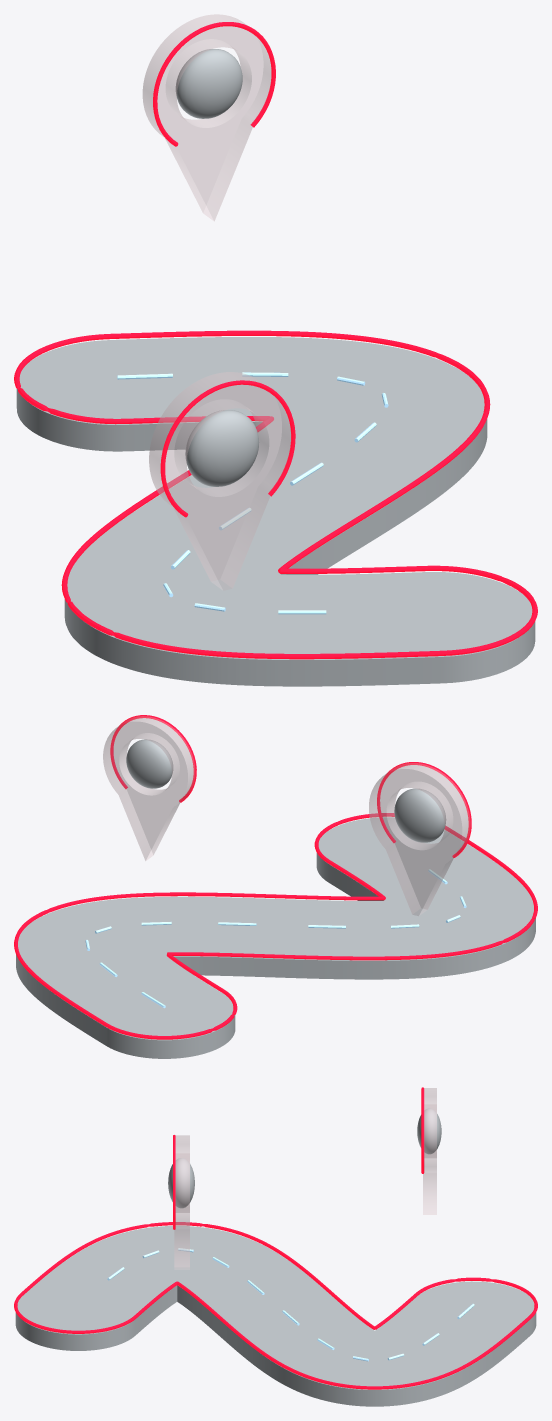
The model's file is 26-roadmap.glb.
3 views of the same model, one above another, from view 1: azimuth 30°, elevation 25°; view 2: azimuth 150°, elevation 25°; view 3: azimuth 270°, elevation 25° (orthographic). The views are drawn at different scales.
Parts seen in each view (by area): view 1: BC thin clear technical glass, BC subtle ruby technical glass, BC ruby signal edge, BC cool glass edge; view 2: BC thin clear technical glass, BC subtle ruby technical glass, BC ruby signal edge, BC cool glass edge; view 3: BC thin clear technical glass, BC ruby signal edge, BC subtle ruby technical glass, BC cool glass edge.
Boxes of the visible parts, x1,y1,x2,y2 form: BC thin clear technical glass: (16,49,535,686); BC subtle ruby technical glass: (142,14,290,590); BC ruby signal edge: (14,22,537,659); BC cool glass edge: (117,372,388,614); BC thin clear technical glass: (16,739,535,1058); BC subtle ruby technical glass: (103,716,470,915); BC ruby signal edge: (14,715,537,1039); BC cool glass edge: (85,869,466,1008); BC thin clear technical glass: (15,1108,536,1406); BC ruby signal edge: (14,1087,537,1389); BC subtle ruby technical glass: (174,1088,436,1269); BC cool glass edge: (107,1248,474,1361).
Bounding box in the file's own units: 1.94 × 1.36 × 2.59.
